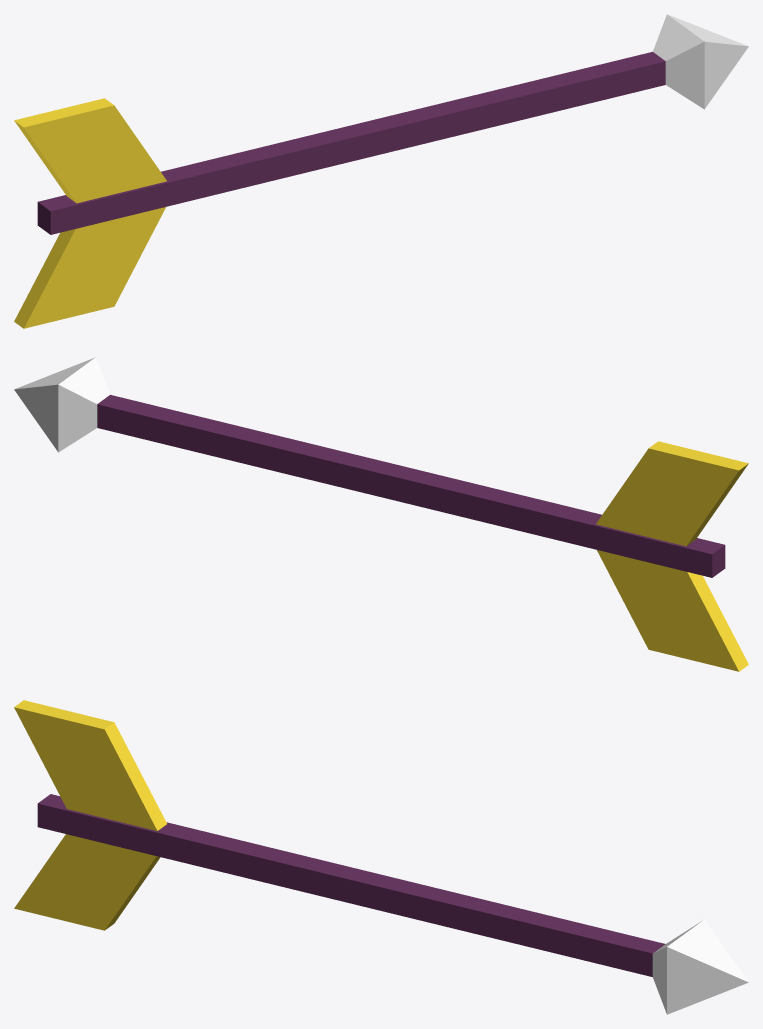
Rendered from YellowArrow.fbx.
3 renders of one model, top to bottom at view 1: azimuth 30°, elevation 25°; view 2: azimuth 150°, elevation 25°; view 3: azimuth 330°, elevation 25°, orthographic.
Visible parts, largest first — view 1: Cube.013; view 2: Cube.013; view 3: Cube.013.
Part boxes in pixels (bbox=[...]): Cube.013: bbox=[14, 14, 748, 328]; Cube.013: bbox=[14, 357, 748, 671]; Cube.013: bbox=[14, 700, 748, 1014].
Bounding box in the file's own units: 64.6 × 17.02 × 5.75.
